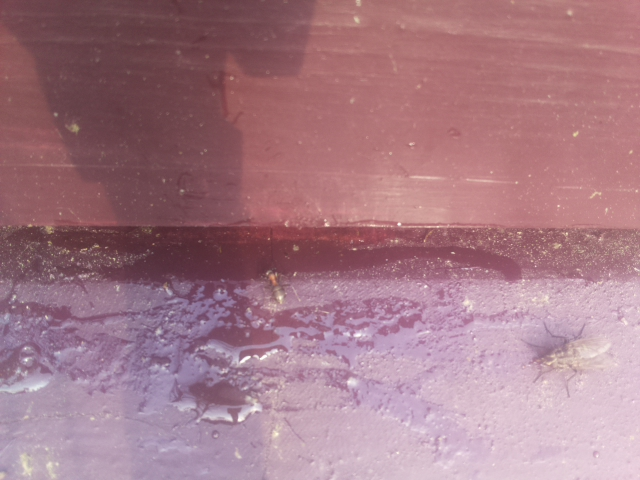ant: (0, 344, 47, 388), (262, 259, 287, 311)
